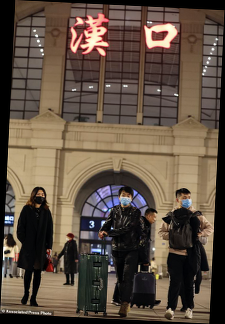with_mask: (178, 194, 193, 208), (120, 192, 132, 206), (34, 192, 45, 204)
without_mask: (150, 214, 157, 225)
